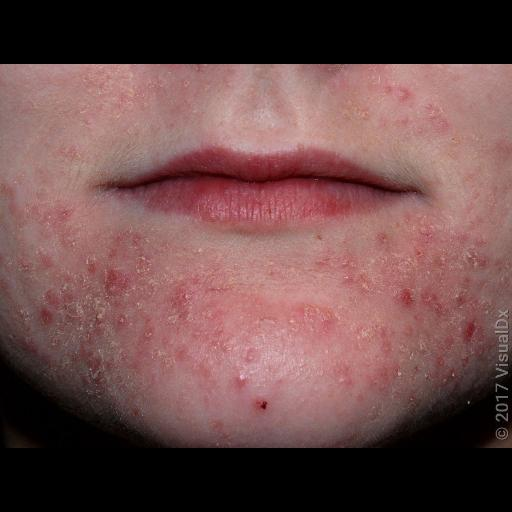Skin_Lesion: (162, 274, 202, 342), (70, 344, 118, 392), (290, 64, 360, 88), (426, 348, 460, 390), (382, 282, 428, 312), (45, 192, 81, 230), (64, 302, 102, 338), (384, 76, 418, 114), (102, 266, 132, 304), (32, 241, 58, 275), (239, 344, 261, 366), (110, 310, 130, 332), (34, 306, 54, 326), (232, 368, 250, 388), (6, 200, 24, 220), (462, 319, 478, 341), (1, 180, 17, 196)
